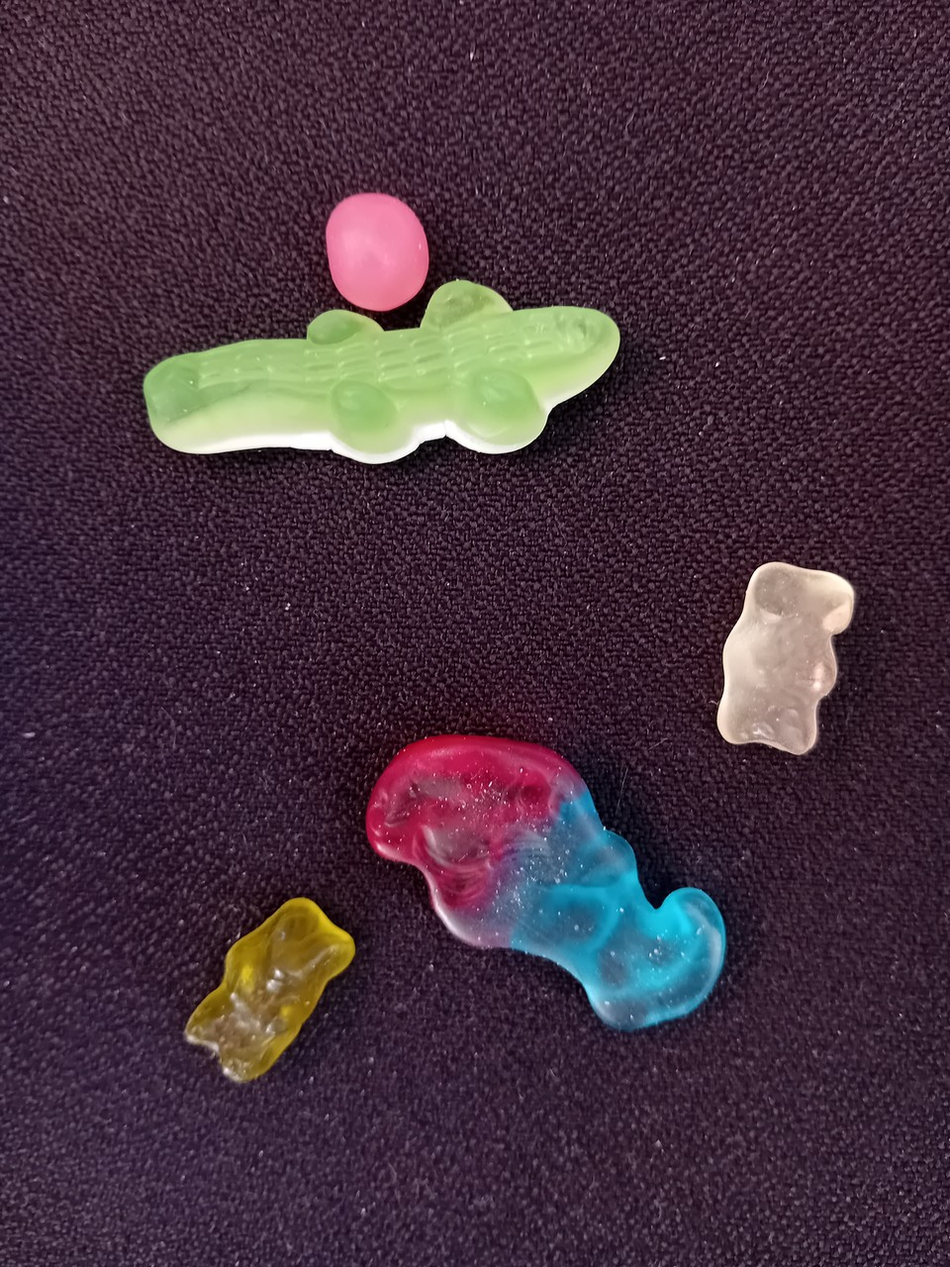crocodile_vert: (135, 277, 637, 472)
dragibus_rose: (313, 184, 435, 313)
ourson_blanc: (705, 553, 864, 759)
ourson_jaune: (166, 887, 362, 1092)
schtroumpf_bleu-rouge: (356, 727, 734, 1042)
